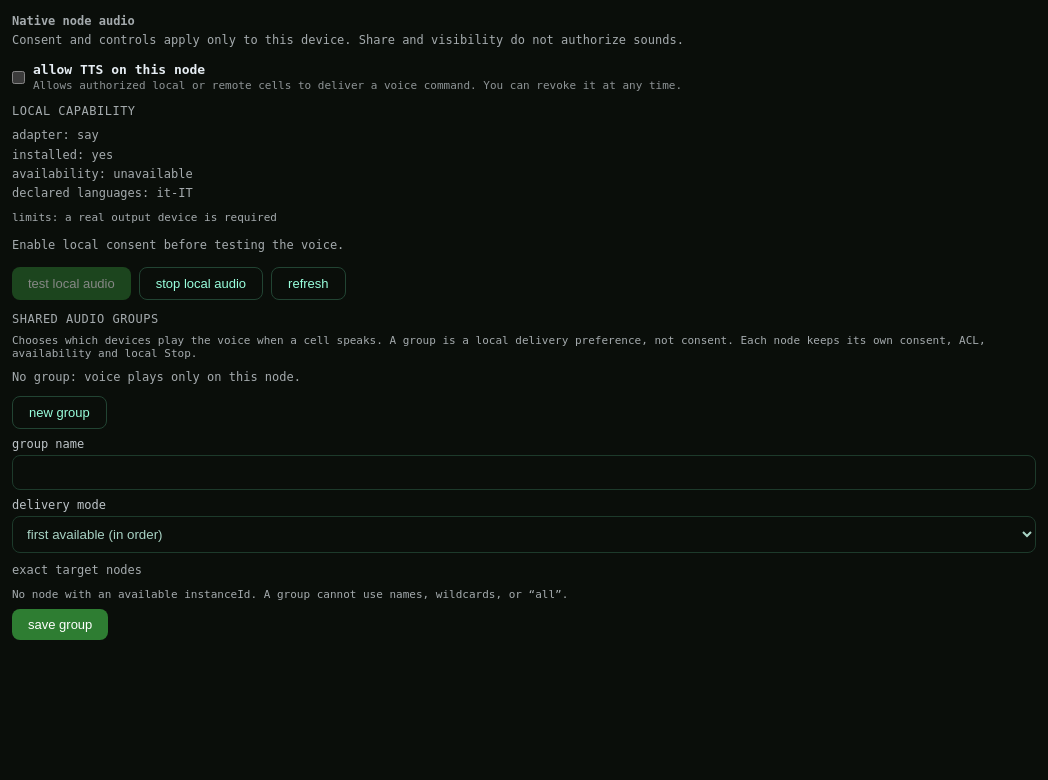
Test case: Settings native node audio › keeps consent node-local, exposes only redacted capability and runs the fixed local test explicitly
Expected: the text "Native node audio" is shown, [12, 14, 135, 28]
Expected: the text "adapter: say" is shown, [12, 128, 193, 200]
Click the checkbox labelled "allow TTS on this node": (18, 77) [12, 71, 25, 84]
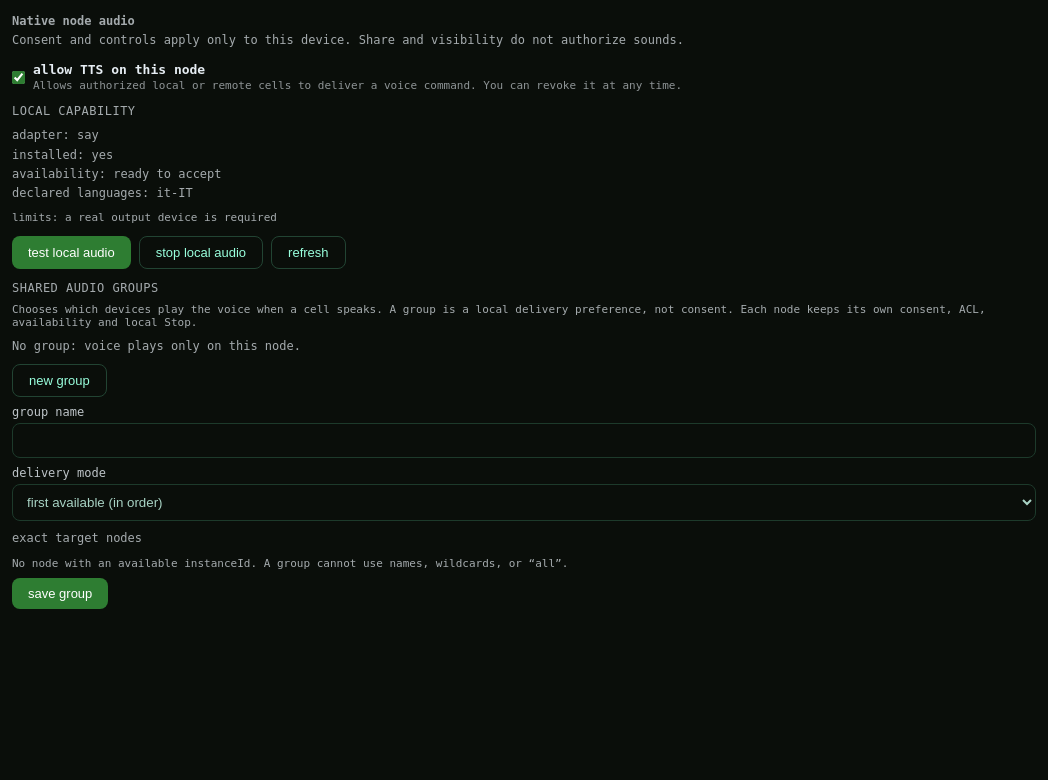
Result: the button "test local audio" is enabled
Click the button "test local audio": (71, 253) [12, 236, 131, 269]
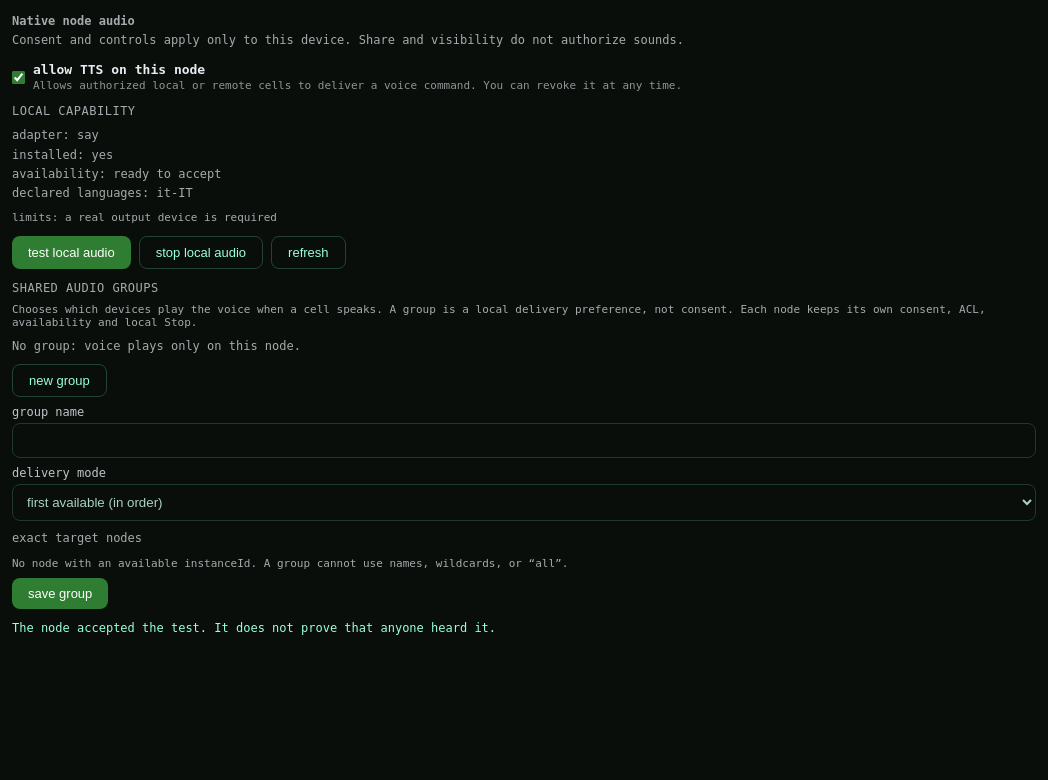
Result: the text "The node accepted the test. It does not prove that anyone heard it." is shown at [12, 620, 496, 634]
